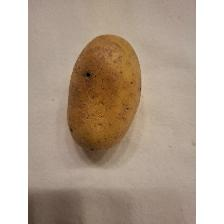Kartoffel: (66, 30, 144, 154)
